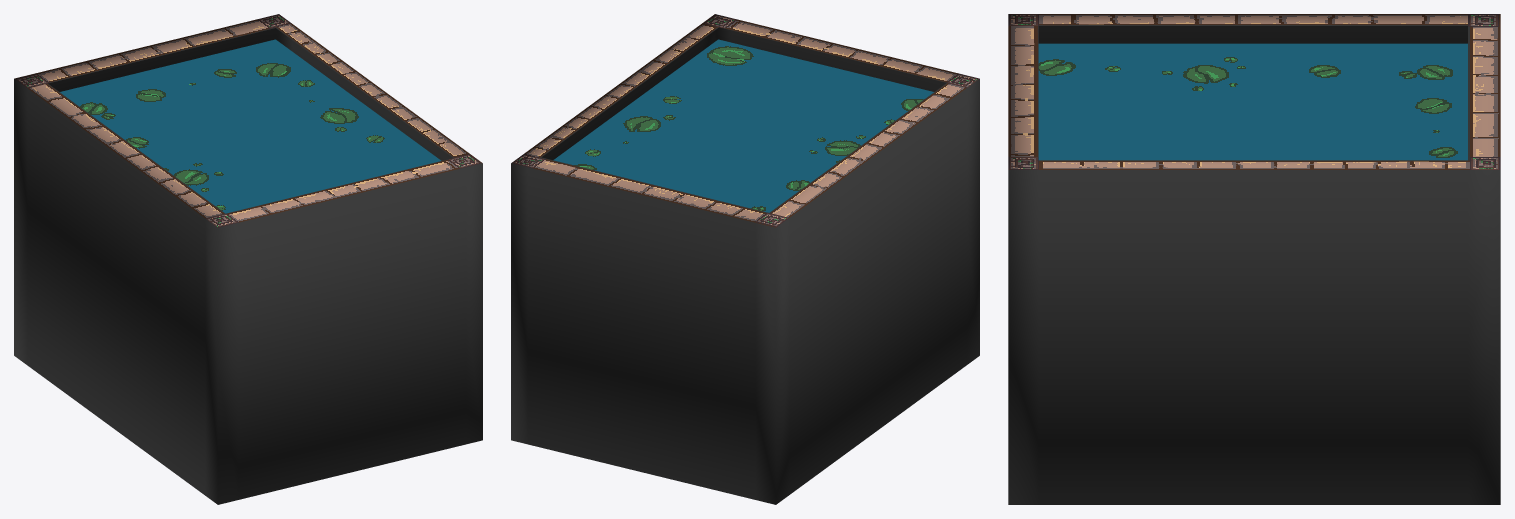
The model's file is GridArena2.gltf.
3 renders of one model, left to right at view 1: azimuth 30°, elevation 25°; view 2: azimuth 150°, elevation 25°; view 3: azimuth 270°, elevation 25°, orthographic. The views are drawn at different scales.
Visible parts, largest first — view 1: Arena, Water; view 2: Arena, Water; view 3: Arena, Water.
Part boxes in pixels (x1,y1,x2,y2): Arena: (14,14,482,504); Water: (60,39,441,213); Arena: (511,14,979,504); Water: (553,39,933,212); Arena: (1008,14,1500,504); Water: (1038,43,1467,160).
Bounding box in the file's own units: 18.75 × 18.75 × 25.
2 materials, 2 textured.
